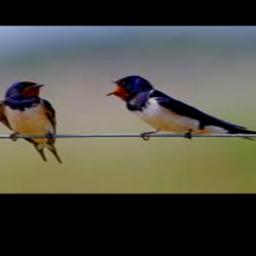Swallow: (102, 75, 256, 148), (0, 79, 61, 163)
